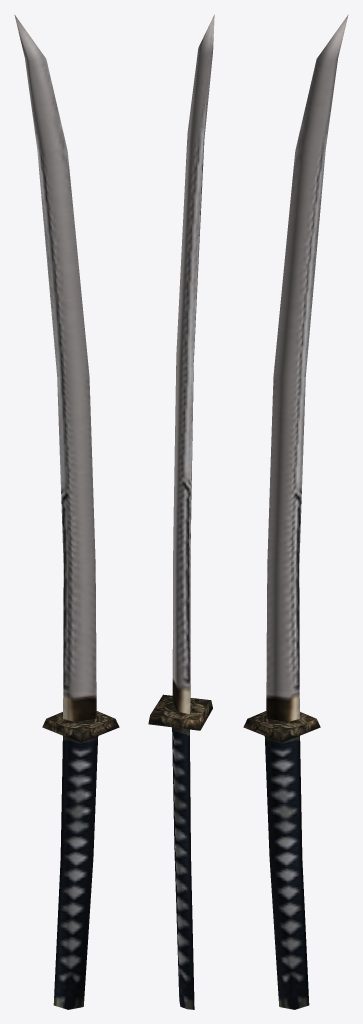
The model's file is Sword_Katana.fbx.
The picture shows the model from 3 angles, left to right: view 1: azimuth 90°, elevation 25°; view 2: azimuth 210°, elevation 25°; view 3: azimuth 270°, elevation 25°; orthographic projection.
Visible parts, largest first — view 1: Katana; view 2: Katana; view 3: Katana.
Part boxes in pixels (x1,y1,x2,y2): Katana: (14, 14, 119, 1009); Katana: (148, 14, 214, 1009); Katana: (243, 14, 348, 1009).
Bounding box in the file's own units: 7 × 105 × 10.05.
